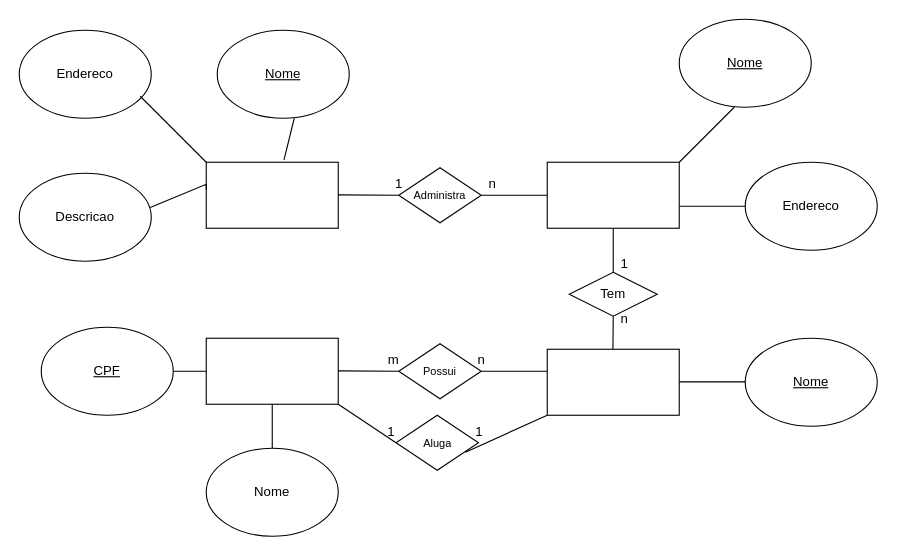
Some shapes in this 897 by 556 pixel diagram are drawn without their labels. Here are the shapes that lost their labels. From the top down, the centre of each, then its label:
At (x=271, y=194): "Empresa".
At (x=612, y=194): "Condominios".
At (x=271, y=370): "Pessoa".
At (x=612, y=381): "Unidade Condominal".
